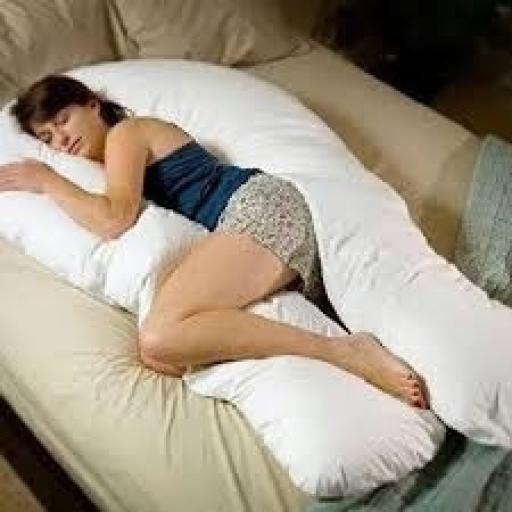sleeping: (0, 70, 435, 412)
